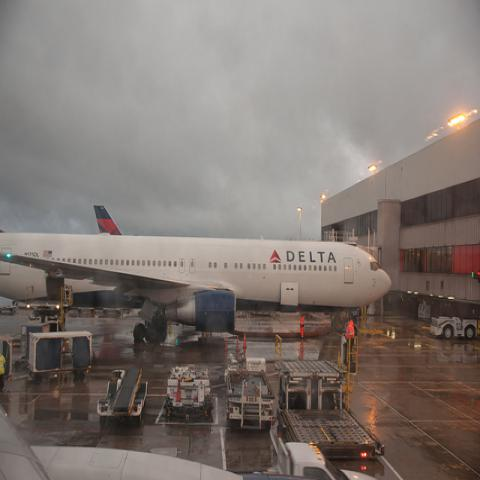bus: (431, 301, 479, 340)
truck: (274, 371, 387, 460), (224, 356, 276, 433), (257, 439, 364, 475), (27, 329, 91, 384), (97, 368, 148, 429), (164, 366, 213, 418), (430, 316, 477, 340)
